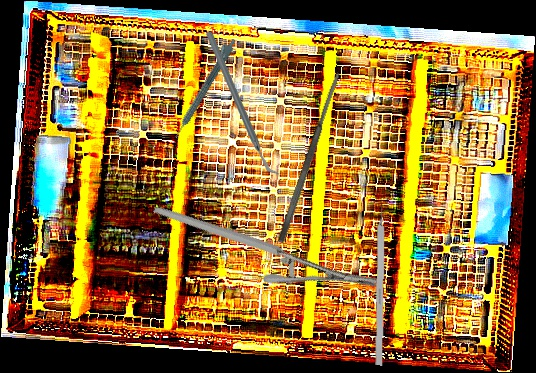Chopper: (206, 31, 279, 177)
Handpiece: (168, 35, 238, 140)
Hook Surgical: (374, 192, 387, 366)
Needle Holder: (152, 143, 382, 349)
Spatula Surgical: (276, 71, 343, 244)
